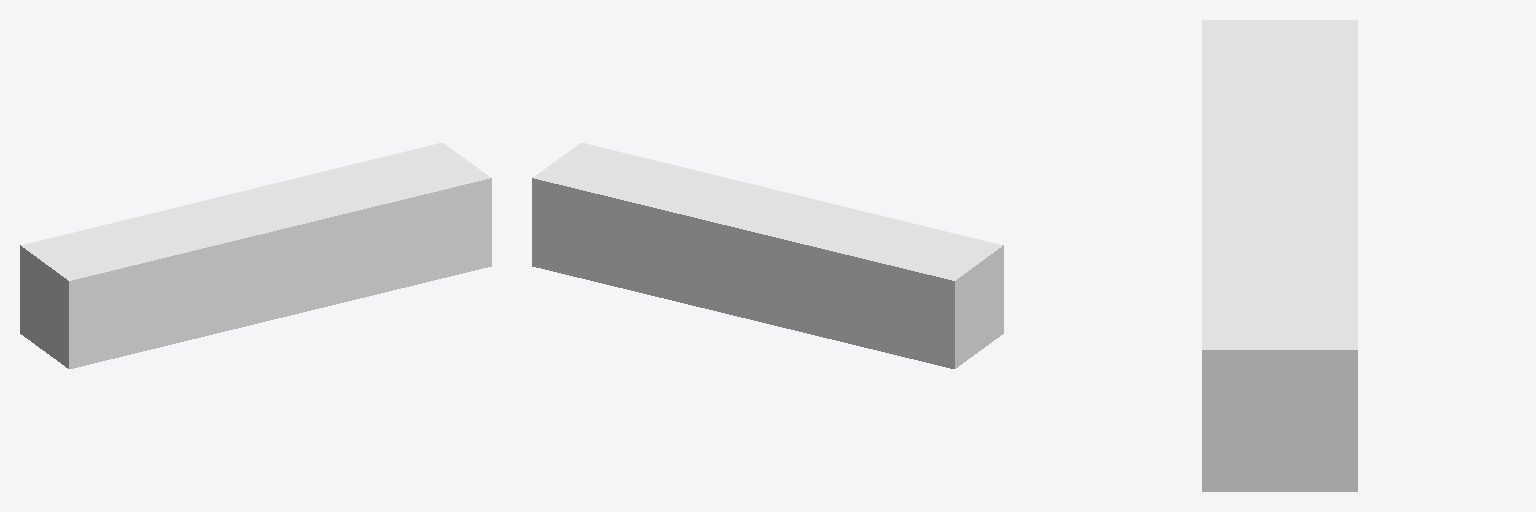
URDF robot description (thick_youtiao):
<?xml version="0.0" ?>
<robot name="thick_youtiao">
  <link name="base_link">
  <contact>
      <lateral_friction value="0.8"/>
      <rolling_friction value="0.3"/>
      <spinning_friction value="0.1"/>
  </contact>
    <inertial>
      <origin rpy="0 0 0" xyz="0 0 0"/>
       <mass value="0.01"/>
       <inertia ixx="0.0001" ixy="0" ixz="0" iyy="0.0001" iyz="0" izz="0.0001"/>
    </inertial>
    <visual>
      <origin rpy="0 0 0" xyz="0 0 0"/>
      <geometry>
				<mesh filename="youtiao.obj" scale="0.1 0.02 0.02"/>
      </geometry>
       <material name="white">
        <color rgba="1 1 1 1"/>
      </material>
    </visual>
    <collision>
      <origin rpy="0 0 0" xyz="0 0 0"/>
      <geometry>
				<mesh filename="youtiao.obj" scale="0.1 0.02 0.02"/>
      </geometry>
    </collision>
  </link>
</robot>

--- What the picture shows (computed from the rendered views, not written in the file) ---
The picture shows the robot from 3 angles, left to right: view 1: azimuth 30°, elevation 25°; view 2: azimuth 150°, elevation 25°; view 3: azimuth 270°, elevation 25°; orthographic projection.
Robot: thick_youtiao — 1 links, 0 joints (none); root link base_link; default pose: every joint at zero.
Visible links, largest first — view 1: base_link; view 2: base_link; view 3: base_link.
Link boxes in pixels (x1,y1,x2,y2): base_link: (20,143,491,368); base_link: (532,143,1003,368); base_link: (1202,20,1357,491).
Size in the robot's own frame: 0.1 by 0.02 by 0.02 metres.
1 mesh visuals loaded from 1 distinct referenced files (1 OBJ).
